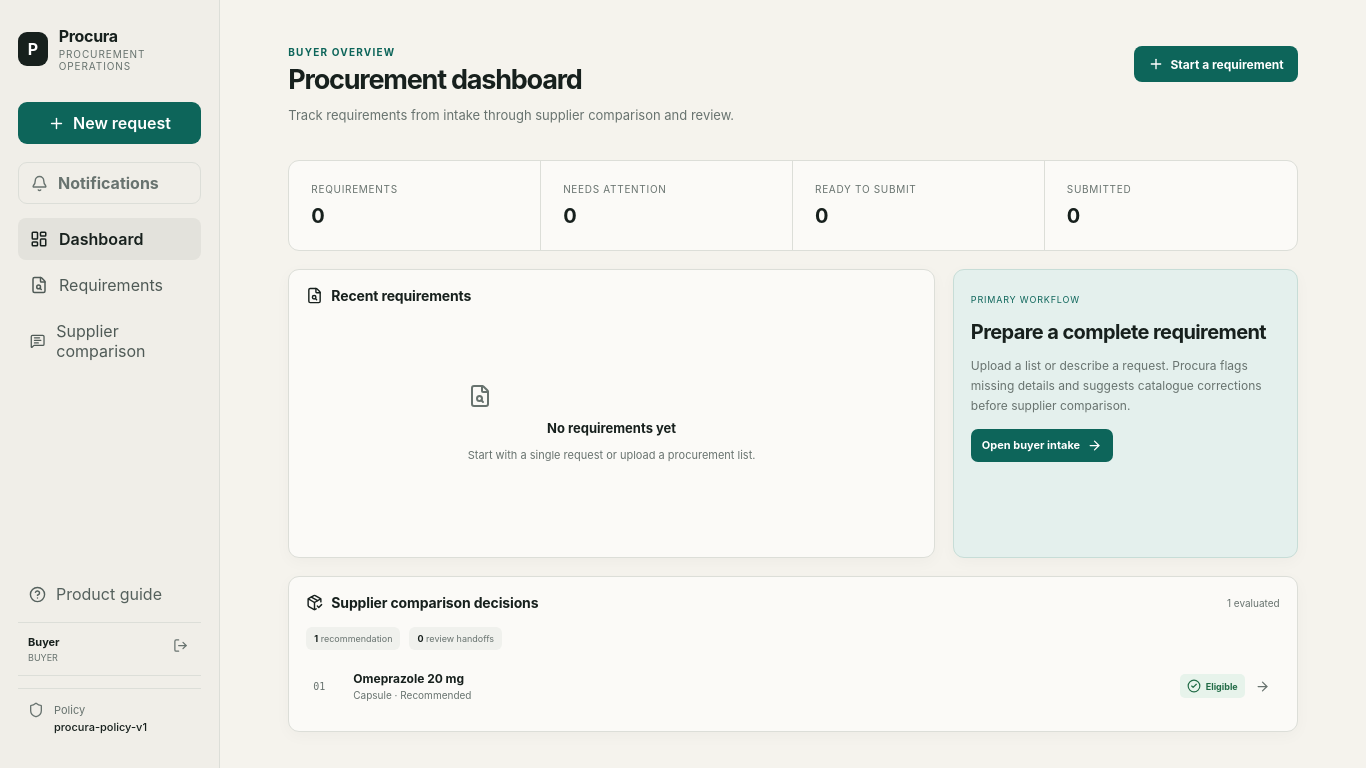
Test: guided product journey › opens a buyer decision from the dashboard with its conversation and evidence
The image size is (1366, 768).
Expected: the text "Omeprazole 20 mg" is shown, [353, 671, 464, 686]
Click the button with aria-label "open omeprazole 20 mg decision 1: recommended": x=409, y=679 [306, 658, 1280, 714]
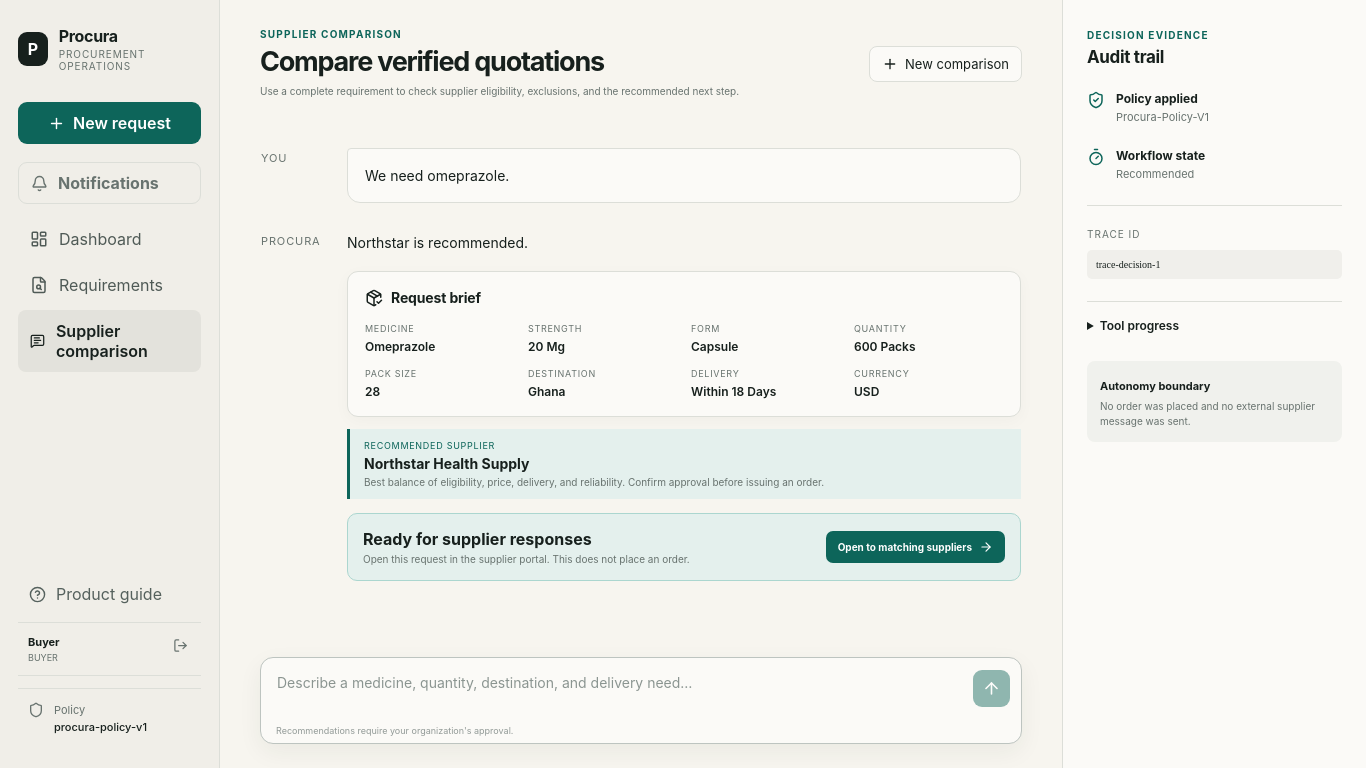
Expected: the text "Northstar is recommended." is shown, [347, 234, 528, 251]
Expected: the heading "Request brief" is shown, [391, 289, 481, 306]
